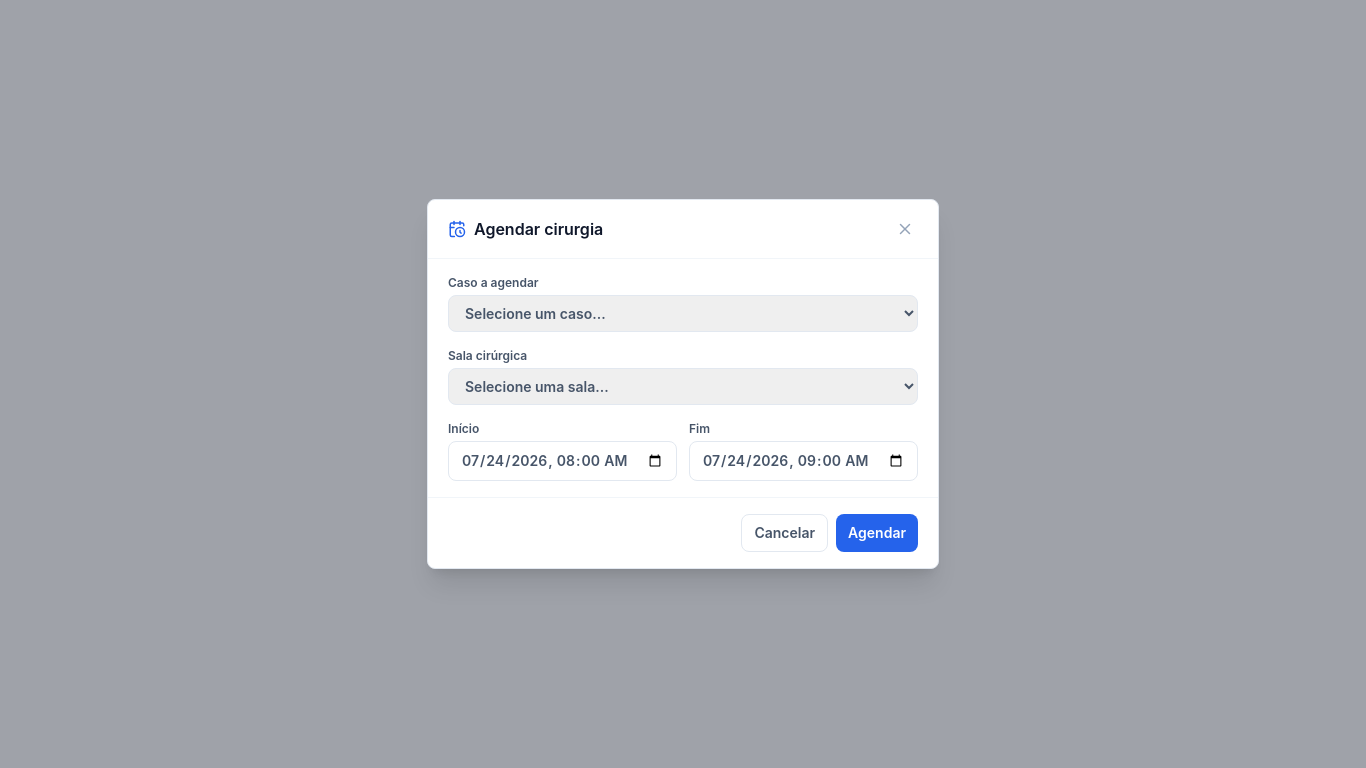
Test: ScheduleSurgeryModal — schedule mode › surfaces an overlap 409 as "conflito de horário na sala"
The width and height of the screenshot is (1366, 768).
Select "Caso #case-abc · eletiva" in the dropdown labelled "Caso a agendar" at (683, 314), box top-left (448, 295), bottom-right (918, 332)
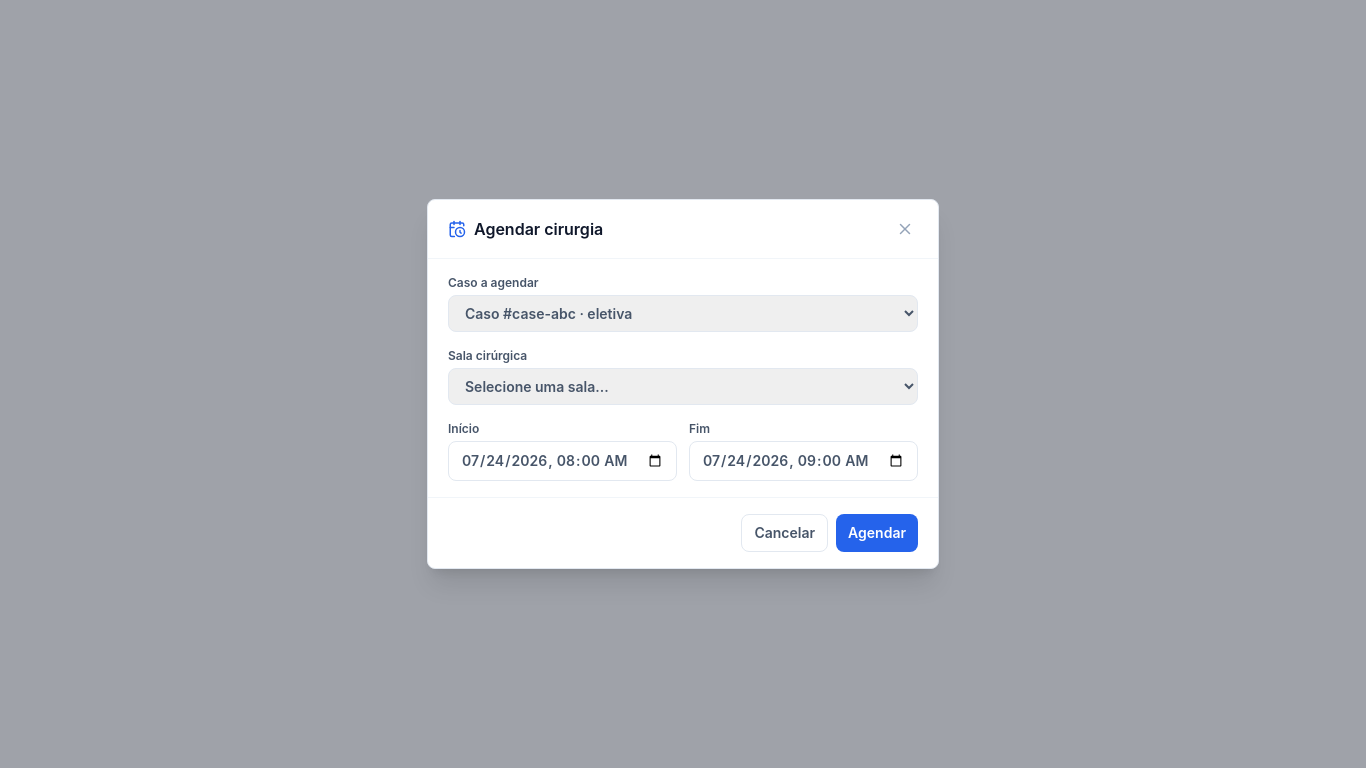
Select "SO-01 — Sala 1" in the dropdown labelled "Sala cirúrgica" at (683, 386), box top-left (448, 368), bottom-right (918, 405)
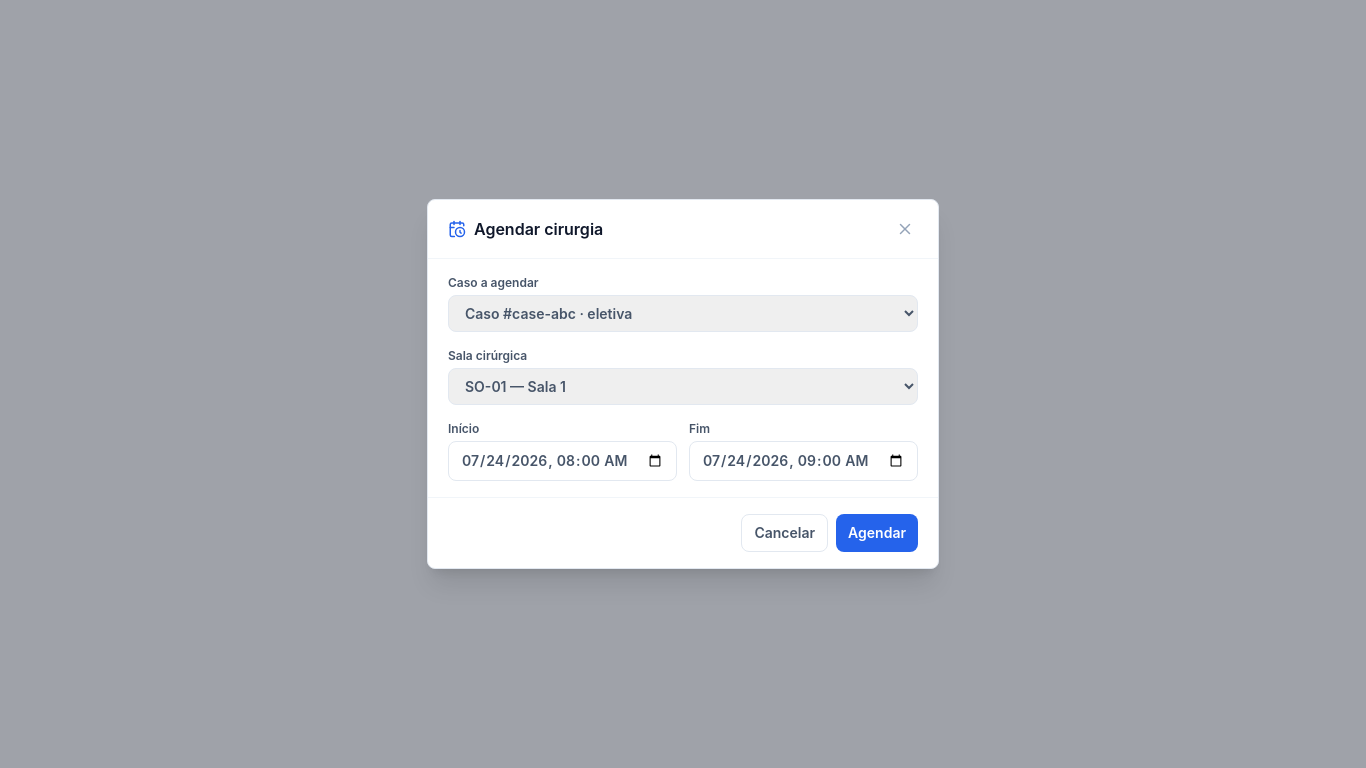
Click the button "Agendar" at (877, 533), box top-left (836, 514), bottom-right (918, 552)
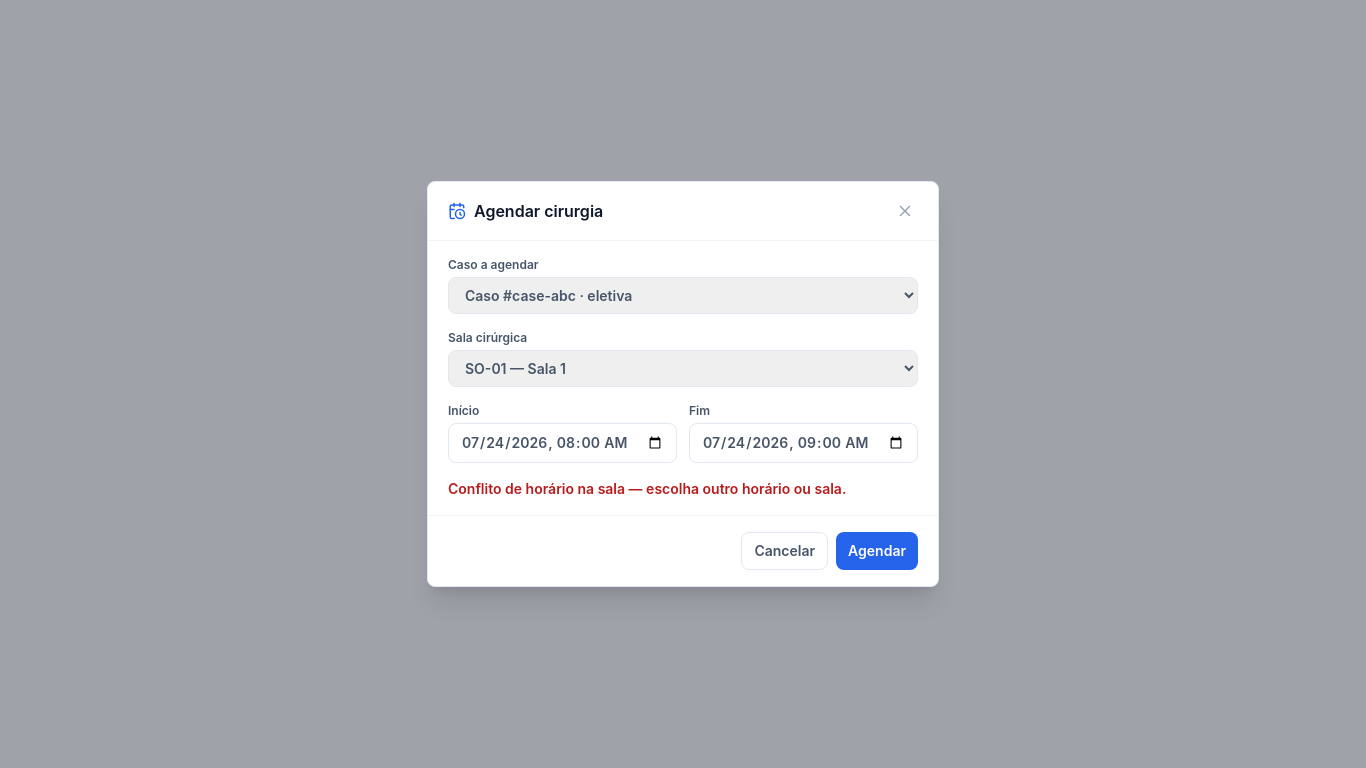
Expected: the text "Conflito de horário na sala — escolha outro horário ou sala." is shown, top-left (448, 480), bottom-right (846, 497)
